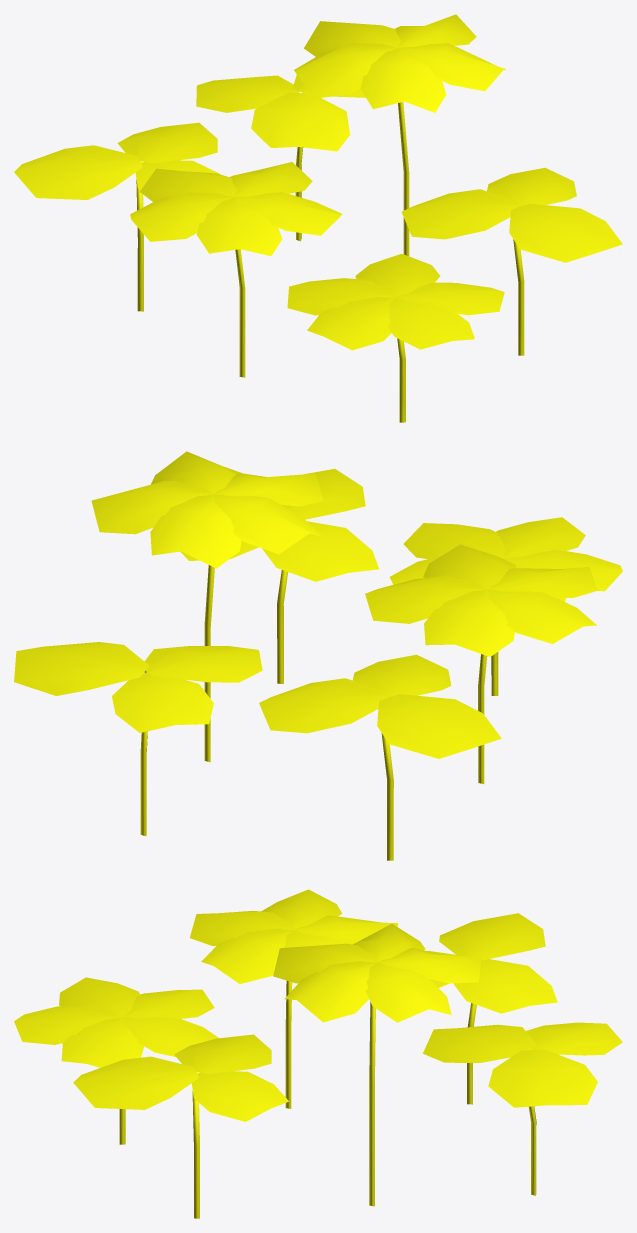
Rendered from Flower_2.fbx.
3 renders of one model, top to bottom at view 1: azimuth 30°, elevation 25°; view 2: azimuth 150°, elevation 25°; view 3: azimuth 270°, elevation 25°, orthographic. The views are drawn at different scales.
Visible parts, largest first — view 1: Flower_2; view 2: Flower_2; view 3: Flower_2.
Part boxes in pixels (box(x1,y1,x2,y2)): Flower_2: box(14, 14, 622, 422); Flower_2: box(14, 451, 622, 860); Flower_2: box(14, 889, 622, 1218).
Bounding box in the file's own units: 44.84 × 25.55 × 57.64.
